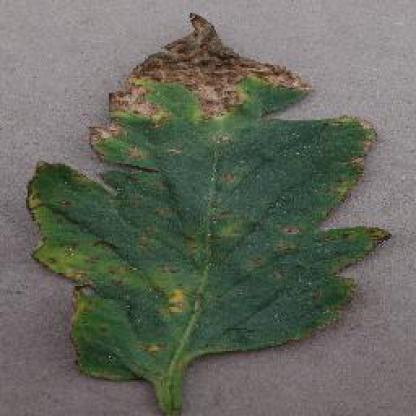bad leaf: (82, 17, 322, 150)
